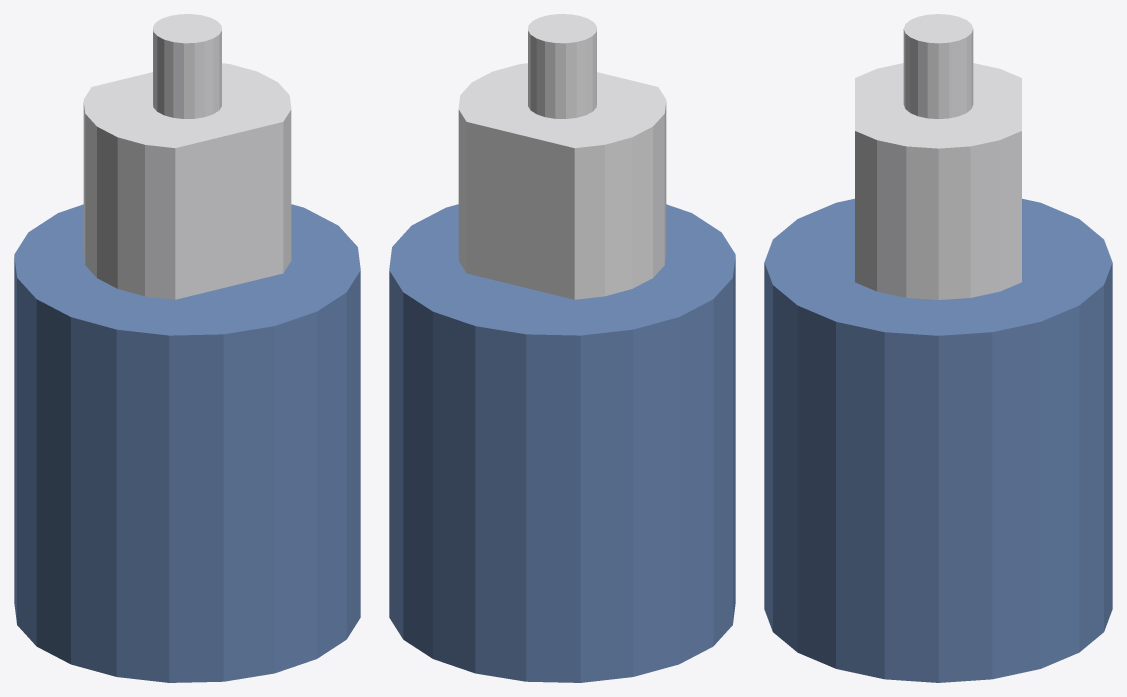
The model's file is jack-screw.glb.
3 views of the same model, side by side, from view 1: azimuth 30°, elevation 25°; view 2: azimuth 150°, elevation 25°; view 3: azimuth 270°, elevation 25° (orthographic).
Parts seen in each view (by area): view 1: body, screw; view 2: body, screw; view 3: body, screw.
Boxes of the visible parts, x1,y1,x2,y2 form: body: (14,204,360,682); screw: (83,14,291,299); body: (389,204,735,682); screw: (458,14,666,299); body: (764,198,1112,682); screw: (855,14,1021,299).
Size of what is drawn, in the model's own units: 0.05 by 0.092 by 0.05.
